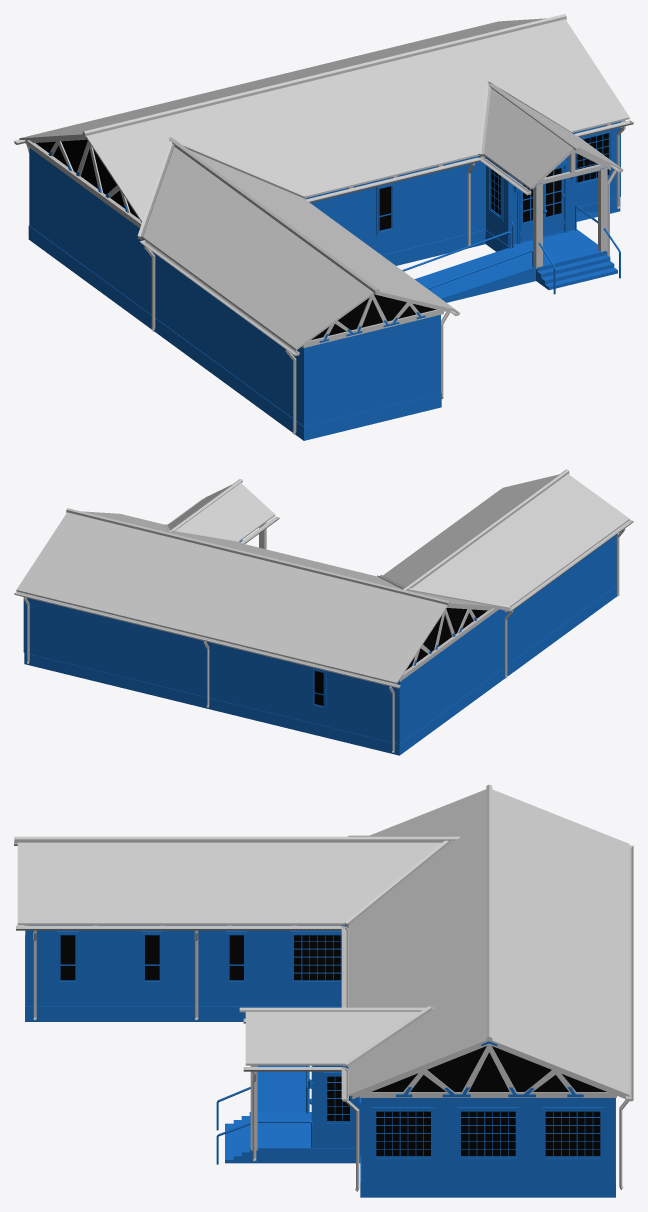
The model's file is SM_office_building.fbx.
The picture shows the model from 3 angles, top to bottom: view 1: azimuth 30°, elevation 25°; view 2: azimuth 150°, elevation 25°; view 3: azimuth 270°, elevation 25°; orthographic projection. The views are drawn at different scales.
Parts seen in each view (by area): view 1: Cube_3, Cube_7, Symmetry_5; view 2: Cube_3; view 3: Cube_3.
Part boxes in pixels (x1,y1,x2,y2): Cube_3: (14,14,633,440); Cube_7: (543,166,563,235); Symmetry_5: (520,183,543,241); Cube_3: (14,469,633,755); Cube_3: (14,784,633,1197).
Bounding box in the file's own units: 1900 × 567 × 1927.
